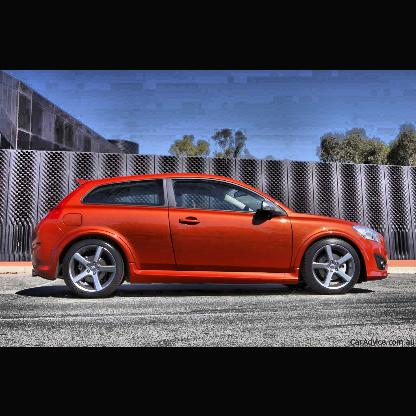Volvo C30 Hatchback 2012: (33, 177, 391, 298)
